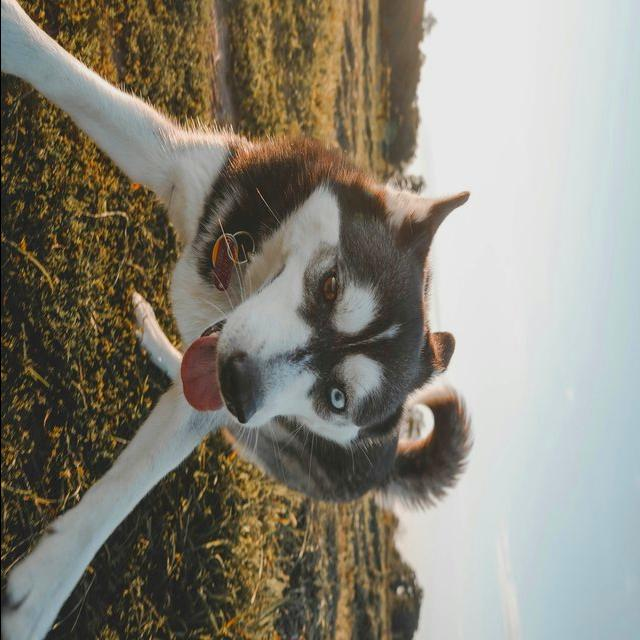husky: (2, 1, 475, 638)
